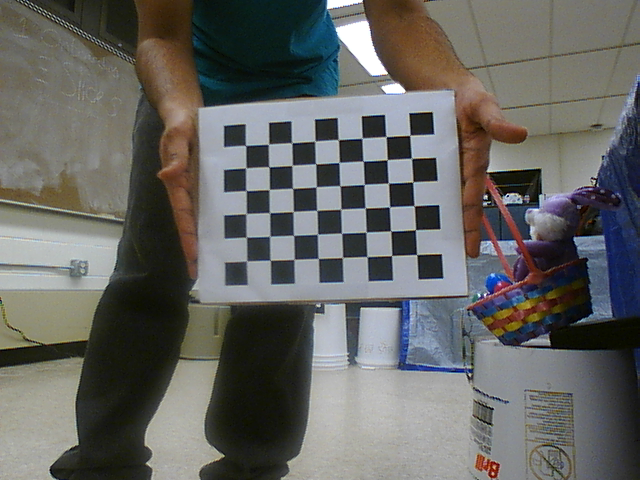bunny: (476, 169, 608, 343)
